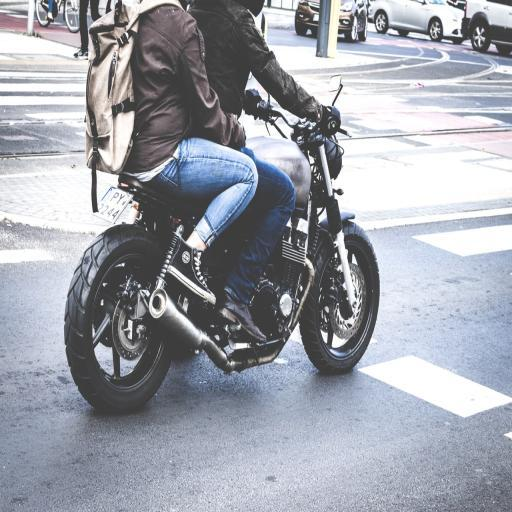helmet: (190, 1, 375, 365)
